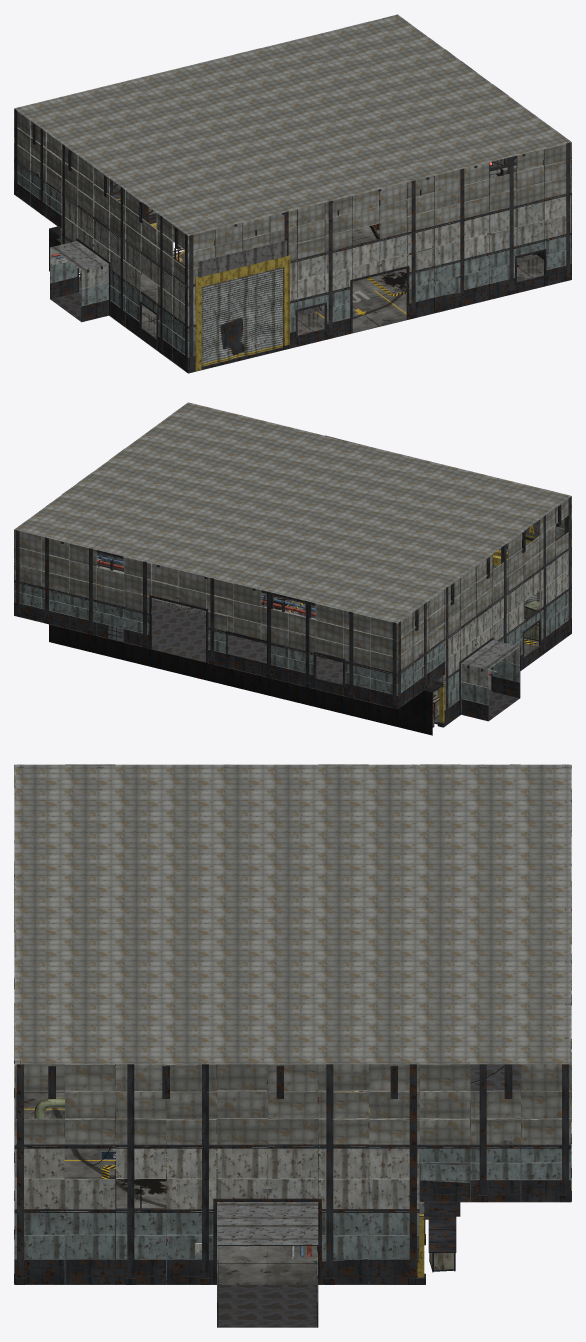
The model's file is hangar.glb.
3 renders of one model, top to bottom at view 1: azimuth 30°, elevation 25°; view 2: azimuth 150°, elevation 25°; view 3: azimuth 270°, elevation 25°, orthographic. The views are drawn at different scales.
Visible parts, largest first — view 1: hangar, hangar_dec; view 2: hangar; view 3: hangar, hangar_dec.
Part boxes in pixels (x1,y1,x2,y2): hangar: [14, 14, 571, 373]; hangar_dec: [108, 208, 537, 337]; hangar: [14, 402, 571, 735]; hangar: [14, 764, 571, 1327]; hangar_dec: [24, 1090, 369, 1253].
Bounding box in the file's own units: 34 × 9.87 × 22.02.
Materials: 11 (8 with a texture image).
